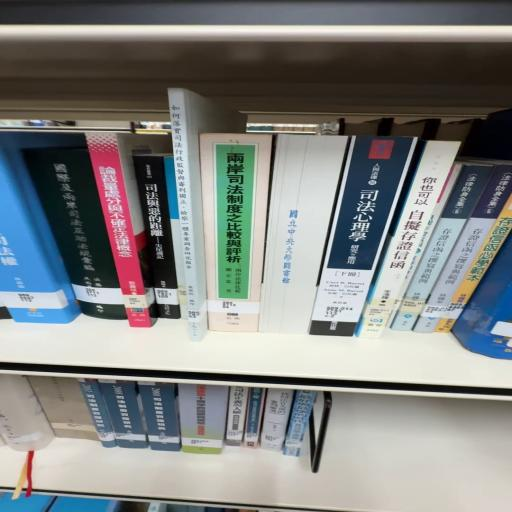backward: (265, 135, 354, 337)
book: (201, 137, 277, 307)
